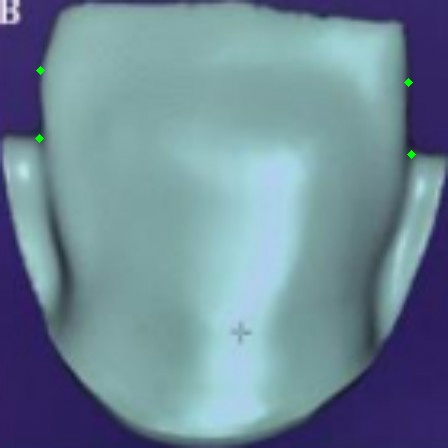coin_1: (39, 138, 59, 158)
coin_2: (40, 70, 60, 90)
coin_3: (411, 154, 431, 174)
coin_4: (408, 82, 428, 102)
